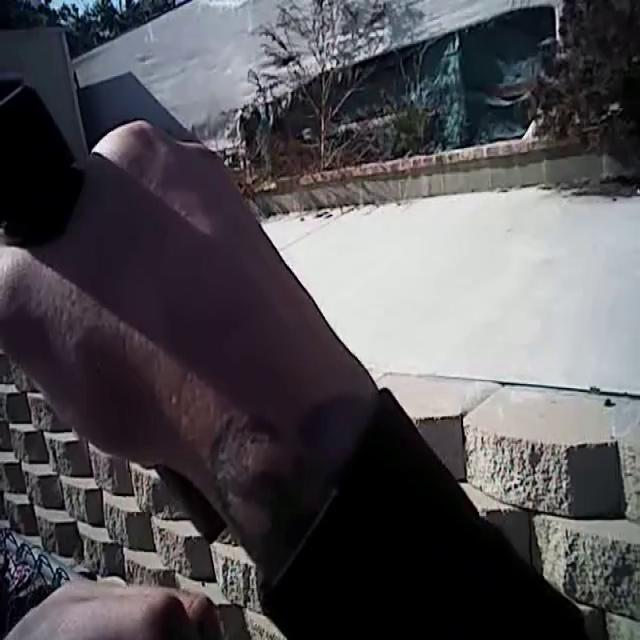gun: (0, 0, 270, 598)
